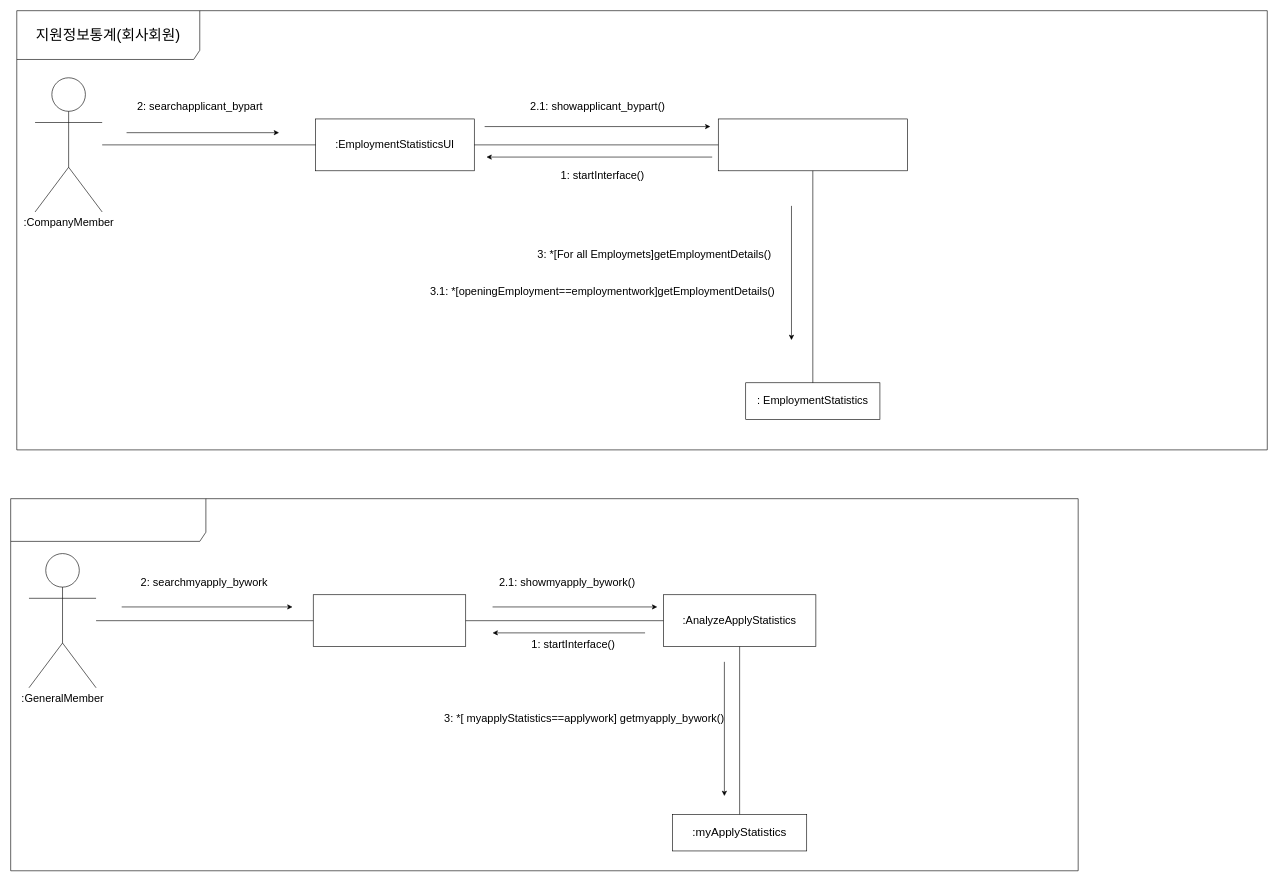
This 1278x881 diagram has some shape labels left out. Each missing label, with the box of its shape:
:AnalyzeEmploymentStatistics: (718, 118, 907, 171)
:ApplyStatisticsUI: (313, 594, 466, 647)
지원정보통계(일반회원): (10, 498, 1078, 871)
